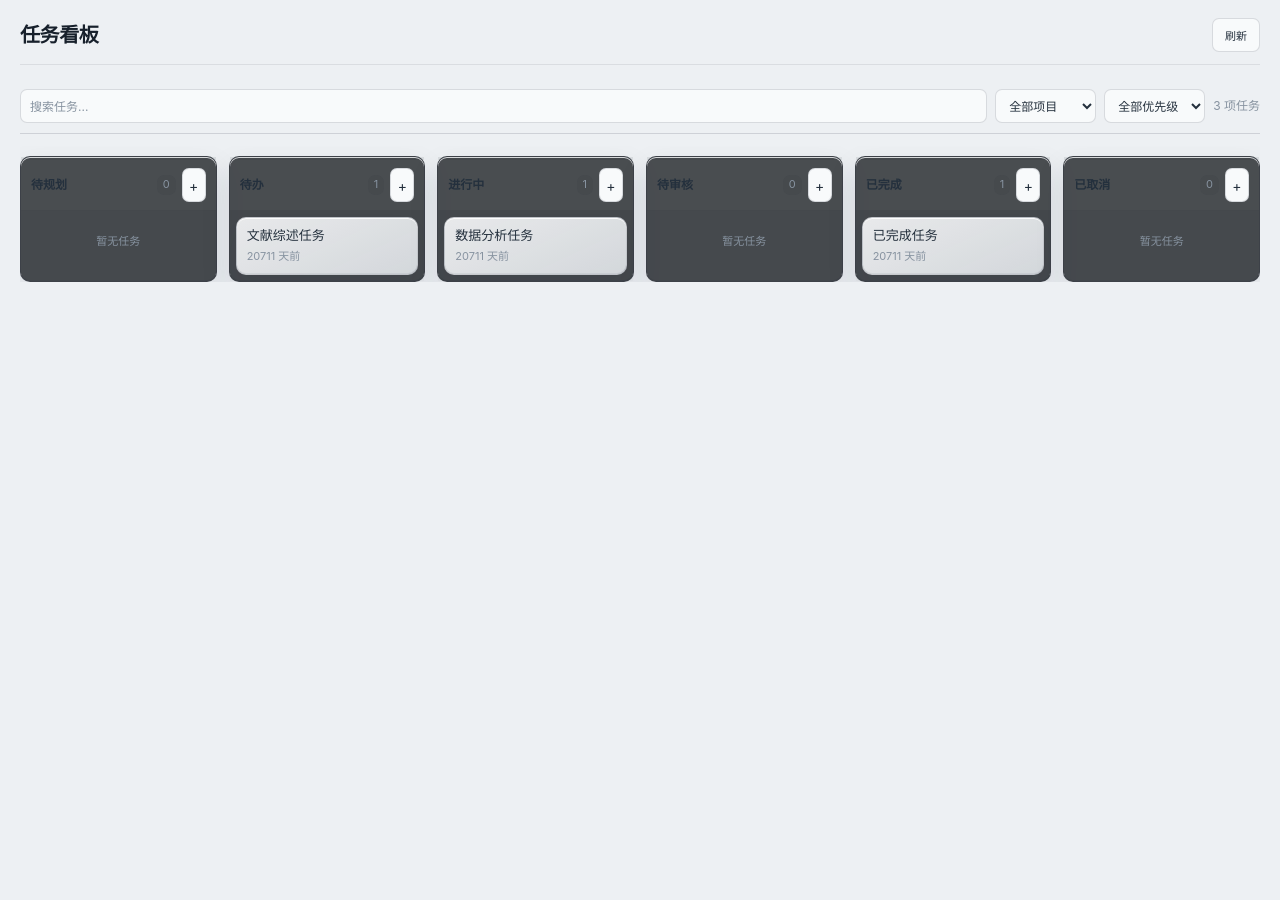
Test: TaskBoardPage › shows the detail panel on card click
Click the button with test id "kanban-card" showing "文献综述任务 20711 天前": (327, 246) [236,217,418,275]
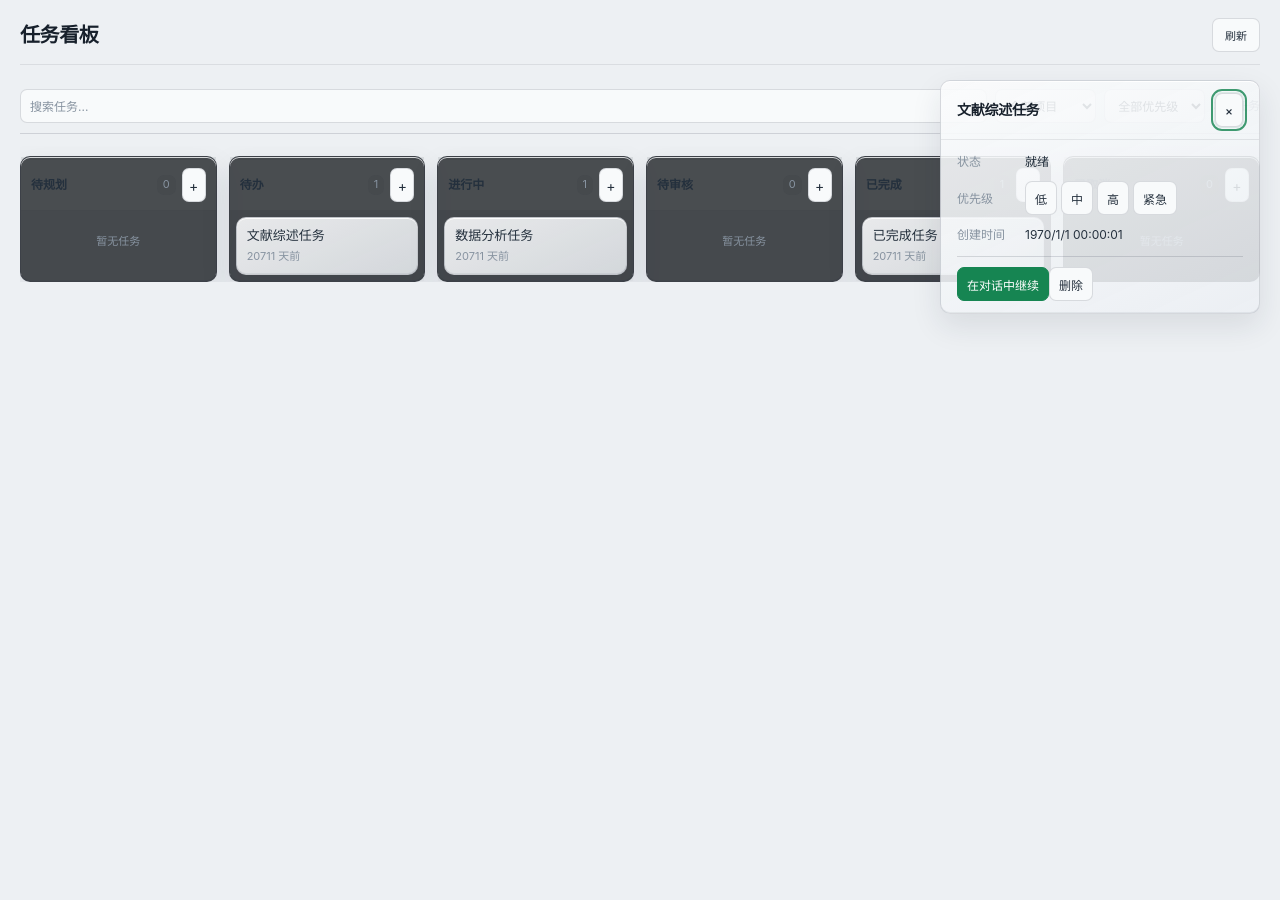
Expected: the text "文献综述任务" is shown, [247,227,325,243]
Expected: the dialog with test id "kanban-detail" is shown, [940,80,1260,314]
